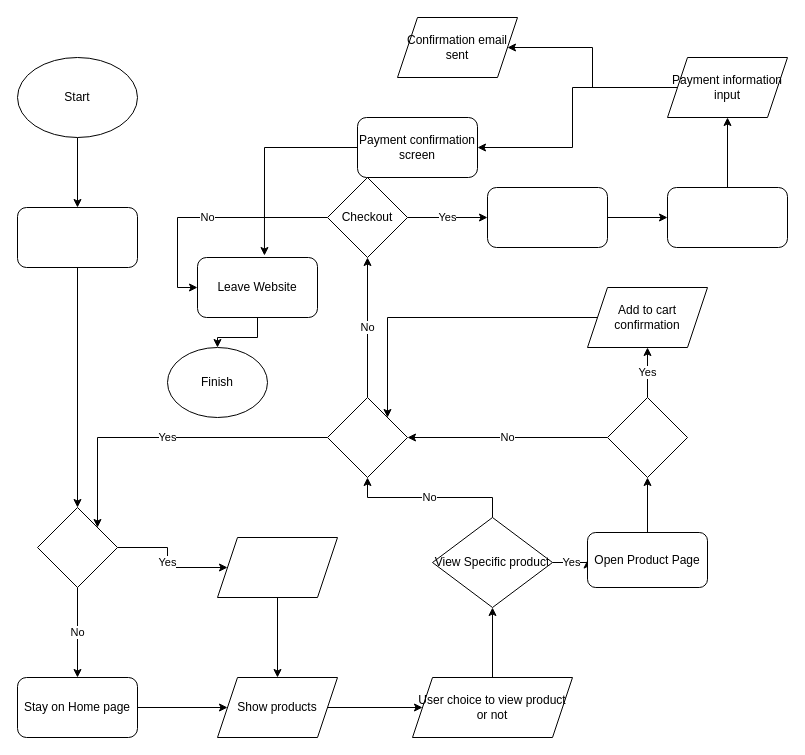
Image size: 805x755. Some labels were removed from this diagram. The centre of each missing label's shape, as x and y in pixels:
Add to Cart: the point at 647,437
Continue Shopping: the point at 367,437
Search: the point at 77,547
Search input: the point at 277,567
View Cart Screen: the point at 547,217
View Payment Screen: the point at 727,217
Website Opened: the point at 77,237
